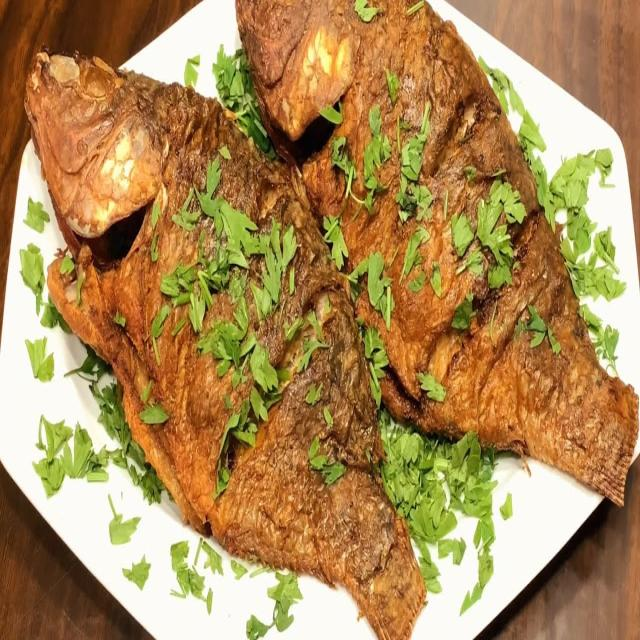Peixe: (23, 43, 428, 638), (234, 0, 638, 511)
